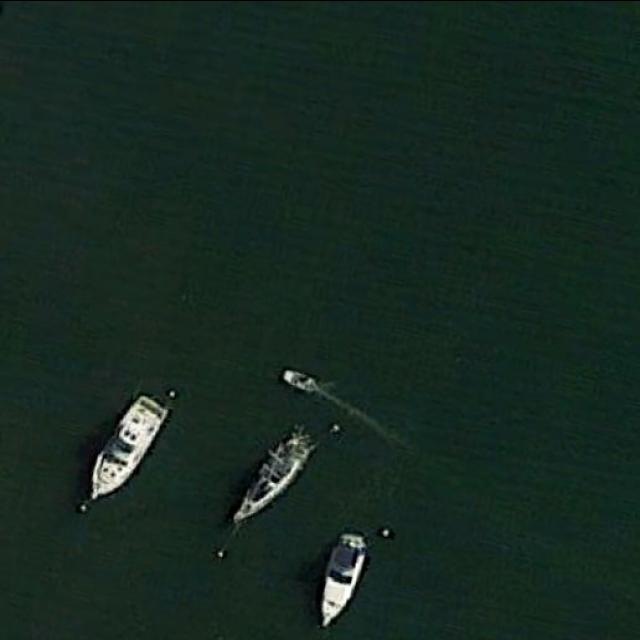ship: (85, 390, 172, 506), (230, 432, 312, 522), (320, 530, 366, 628), (279, 368, 321, 394)
